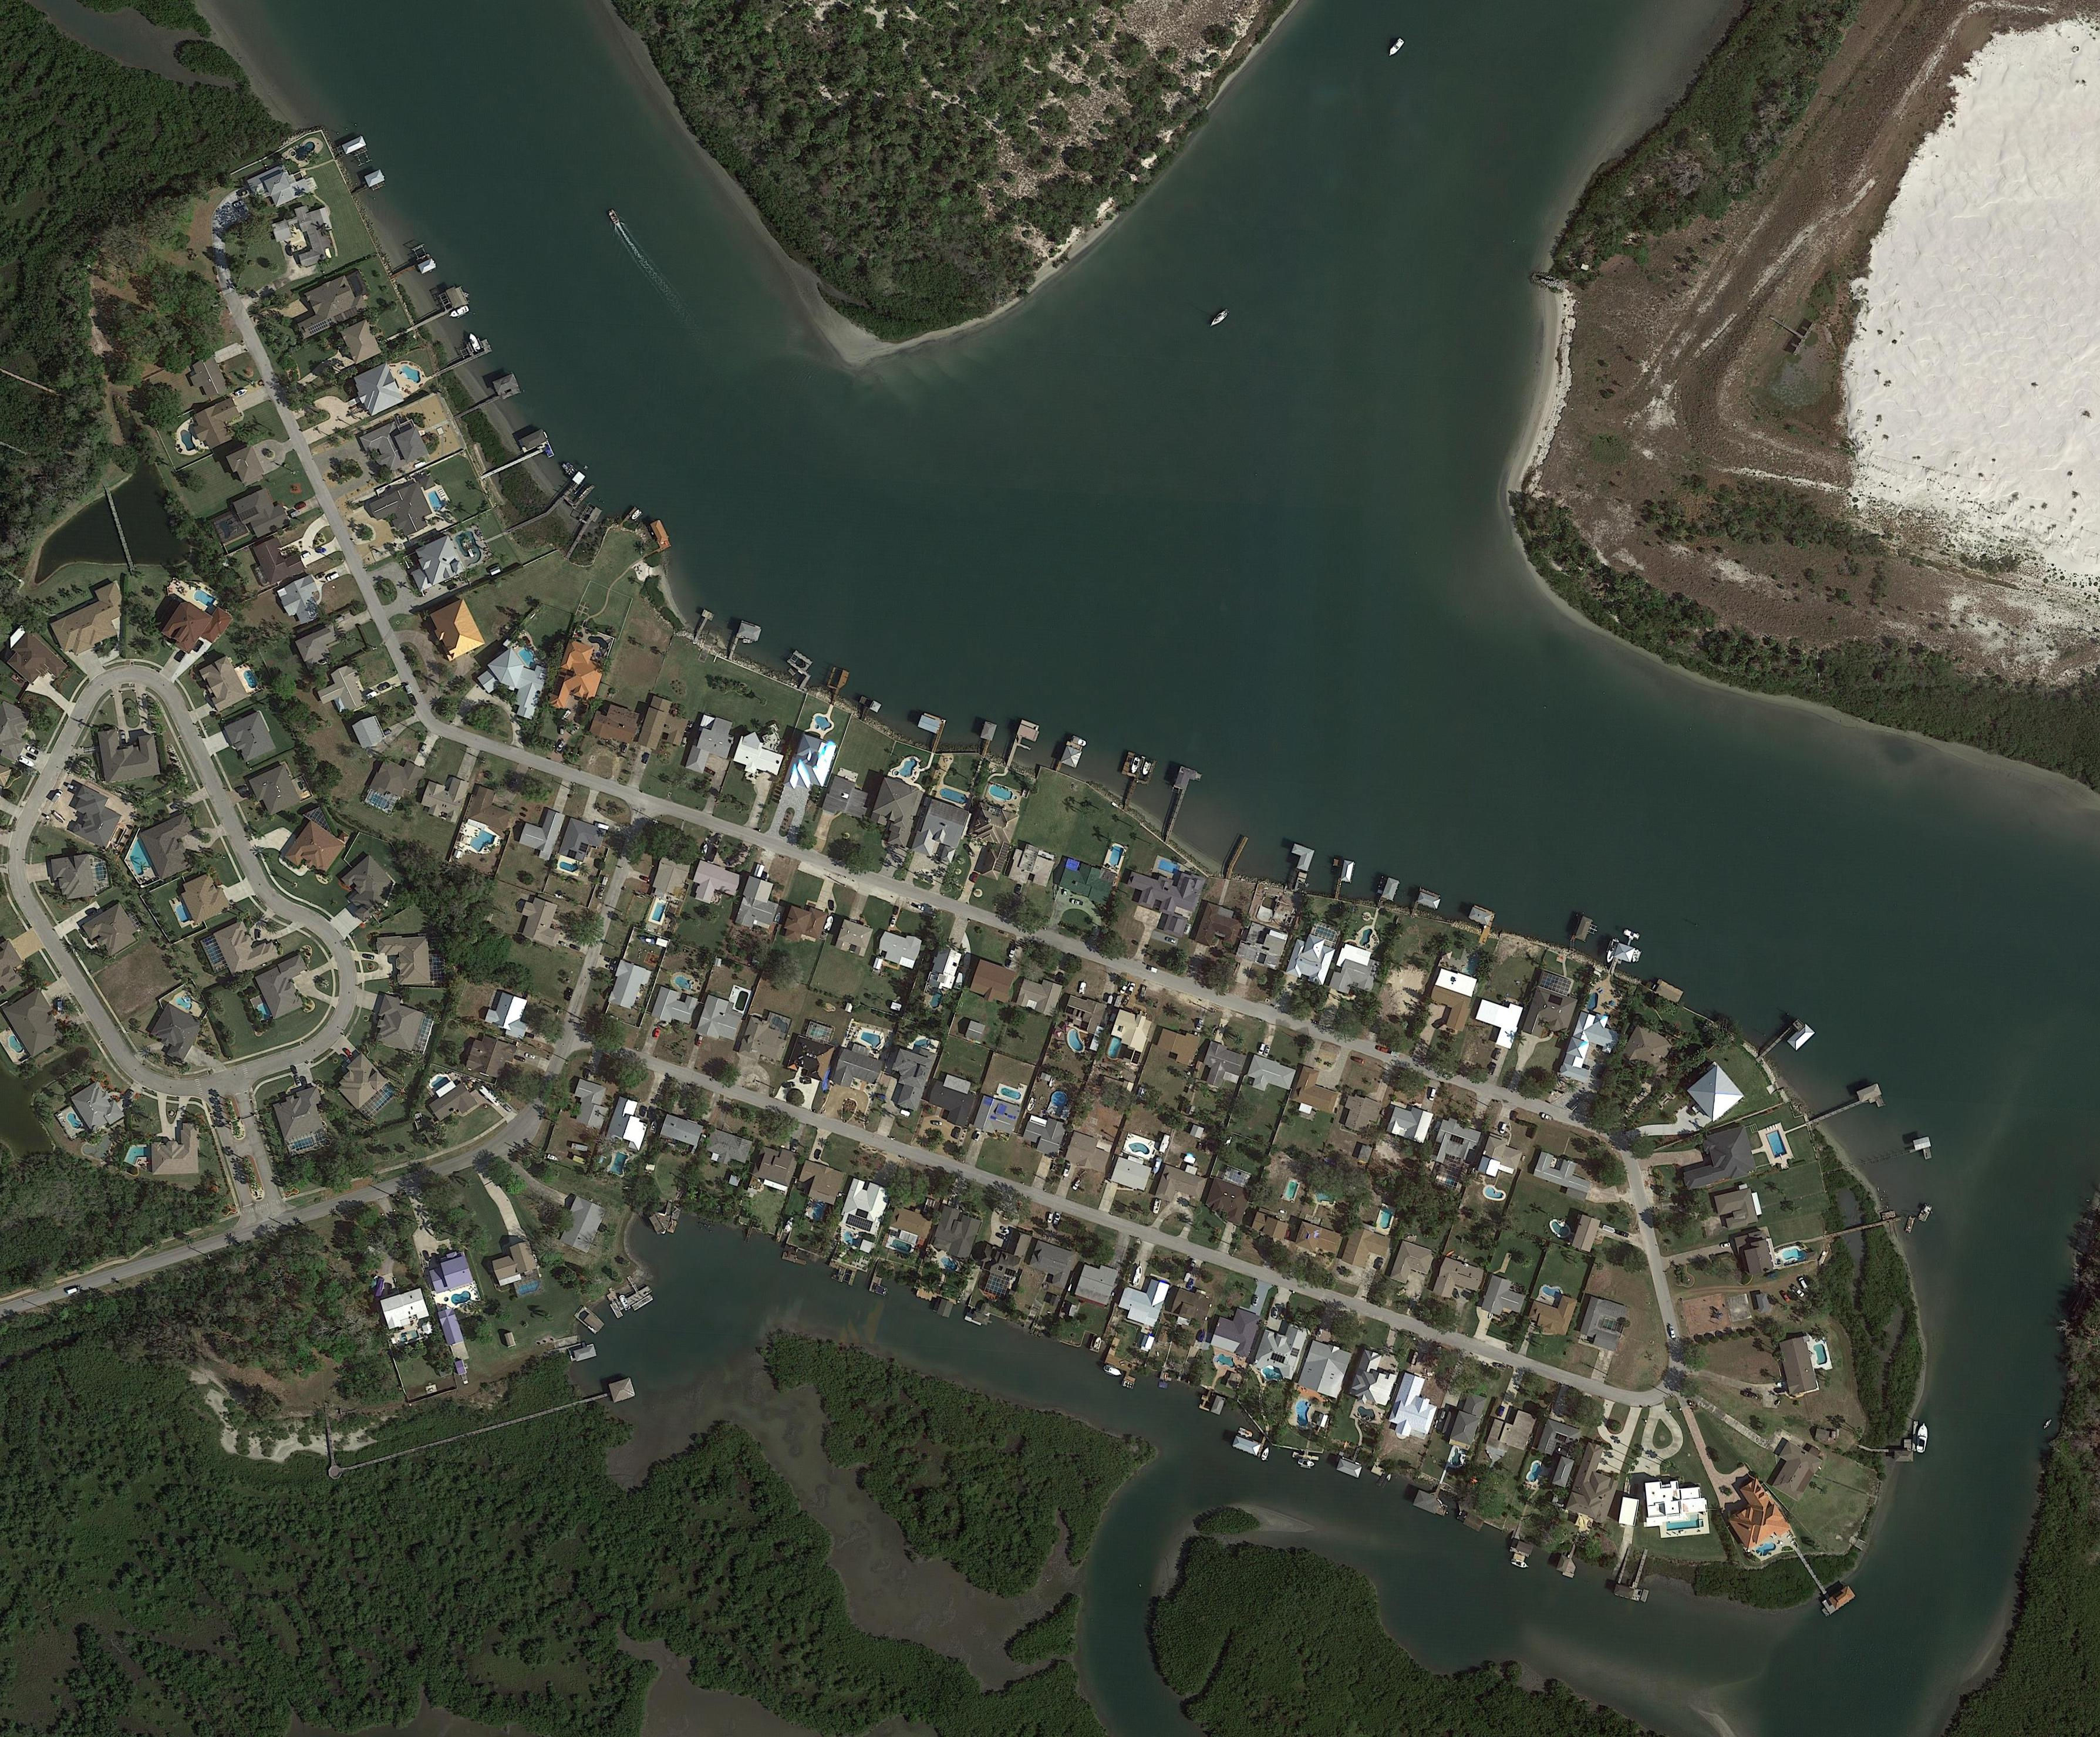harbor: (467, 1378, 637, 1442), (1788, 1540, 1856, 1617), (480, 429, 555, 481), (1807, 1083, 1885, 1130), (448, 371, 522, 420), (1158, 766, 1203, 844), (1758, 1017, 1816, 1071), (1613, 1543, 1660, 1603), (406, 284, 469, 328), (546, 471, 597, 525), (1113, 752, 1156, 813), (562, 504, 603, 562), (433, 338, 494, 375), (387, 242, 436, 284), (1873, 1421, 1919, 1461), (1006, 720, 1041, 771), (1413, 1477, 1455, 1519), (727, 619, 762, 666), (1280, 842, 1313, 891), (778, 651, 820, 689), (910, 712, 947, 755), (1610, 928, 1641, 977), (1233, 1418, 1272, 1456), (647, 1198, 684, 1238), (1099, 1350, 1142, 1383), (616, 1271, 654, 1308), (1333, 1441, 1369, 1477), (1554, 1540, 1585, 1578), (1327, 858, 1355, 900), (1463, 905, 1497, 938), (823, 666, 849, 708), (1055, 739, 1083, 778), (347, 169, 385, 197), (333, 136, 368, 166), (1411, 888, 1442, 919), (1509, 1526, 1540, 1557), (572, 1304, 605, 1334), (1568, 914, 1594, 950), (853, 694, 883, 725), (1373, 875, 1401, 909), (825, 1257, 858, 1285), (869, 1261, 895, 1296), (965, 1299, 994, 1329), (691, 609, 715, 644), (975, 722, 998, 759), (1653, 978, 1685, 1005), (602, 1287, 626, 1318), (649, 520, 673, 551), (1198, 1388, 1226, 1414), (567, 1341, 598, 1364), (1455, 1510, 1486, 1533), (1228, 835, 1249, 868), (781, 1243, 811, 1266), (1291, 1448, 1322, 1468), (617, 506, 638, 528), (933, 1298, 956, 1318), (1371, 1456, 1388, 1477), (1160, 1367, 1176, 1383), (1090, 1336, 1104, 1353), (916, 1289, 935, 1301)
ship: (1913, 1421, 1931, 1454), (1603, 938, 1620, 964), (1130, 1263, 1146, 1289), (466, 331, 481, 354), (448, 303, 471, 319), (1101, 1364, 1123, 1379), (17, 755, 37, 769), (1071, 734, 1088, 748), (1510, 1557, 1530, 1570), (1296, 1458, 1315, 1470), (823, 914, 835, 933), (1153, 1155, 1163, 1175), (1062, 1161, 1074, 1179), (234, 387, 249, 399), (1151, 1198, 1163, 1214), (1141, 760, 1153, 776), (1259, 1446, 1272, 1461), (1026, 1095, 1038, 1111), (1130, 755, 1141, 773), (631, 507, 644, 520), (1078, 980, 1087, 996), (774, 910, 781, 923)
